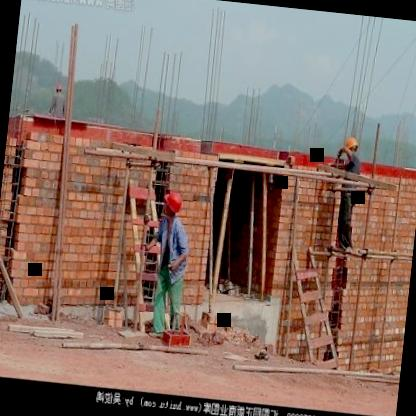helmet: (159, 190, 184, 221), (344, 135, 361, 160), (53, 80, 63, 94)
